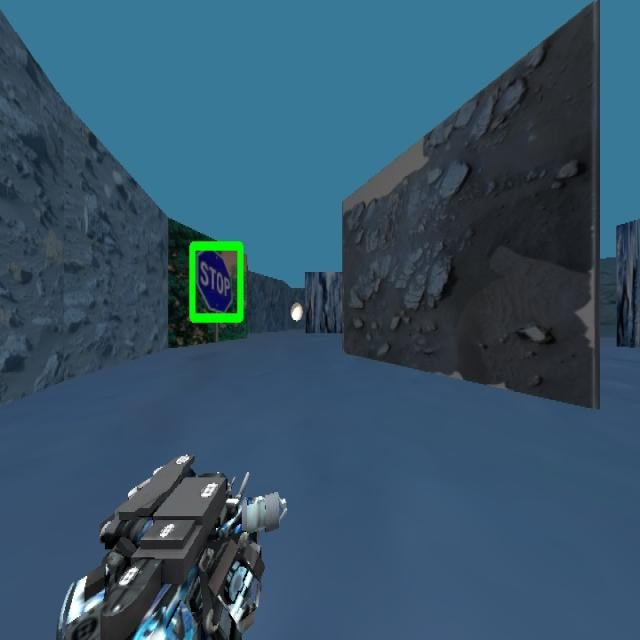Circle: (290, 300, 302, 321)
Stop_Sign: (188, 239, 245, 324)
